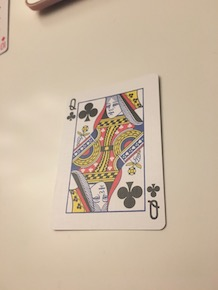QueenOfClubs: (52, 73, 170, 236)
